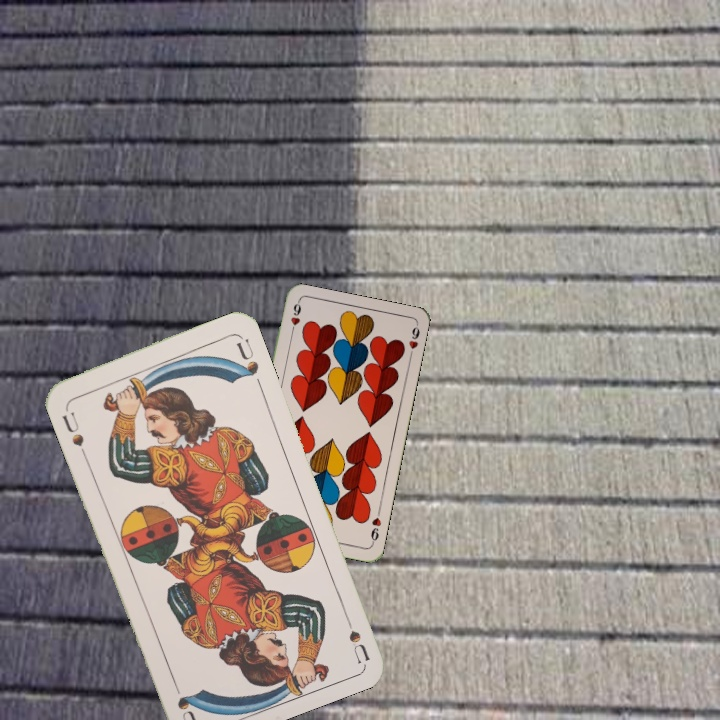H9: (367, 507, 384, 547), (287, 298, 304, 338)
SU: (339, 606, 372, 664), (58, 407, 87, 449)
